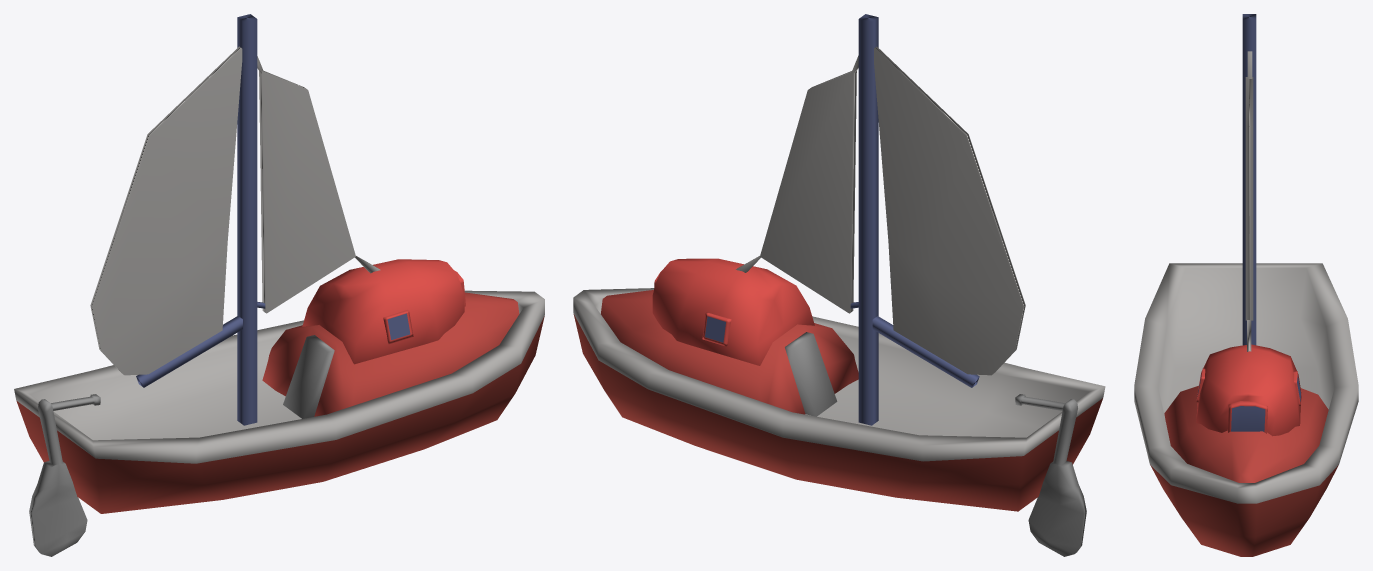
File: Boat_2.fbx
The picture shows the model from 3 angles, left to right: view 1: azimuth 30°, elevation 25°; view 2: azimuth 150°, elevation 25°; view 3: azimuth 270°, elevation 25°; orthographic projection. The views are drawn at different scales.
Parts seen in each view (by area): view 1: Boat_2; view 2: Boat_2; view 3: Boat_2.
Boxes of the visible parts, x1=… form: Boat_2: x1=14, y1=14, x2=544, y2=556; Boat_2: x1=573, y1=14, x2=1105, y2=556; Boat_2: x1=1134, y1=14, x2=1358, y2=556.
Bounding box in the file's own units: 509 × 470 × 203.
1 material, 1 textured.
